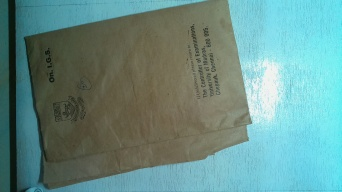l: (16, 1, 263, 185)
